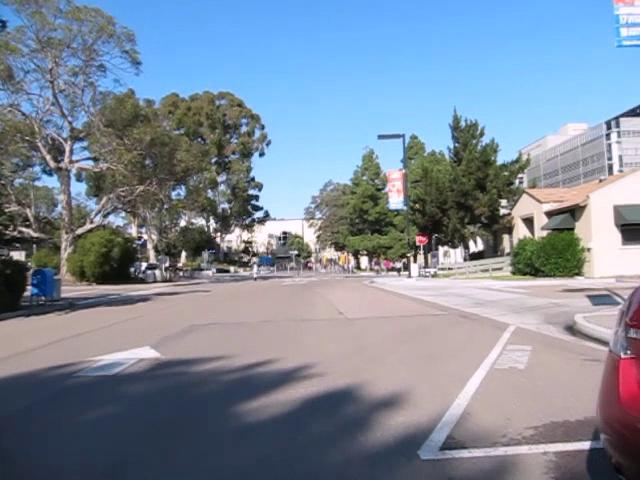stop: (414, 230, 429, 245)
